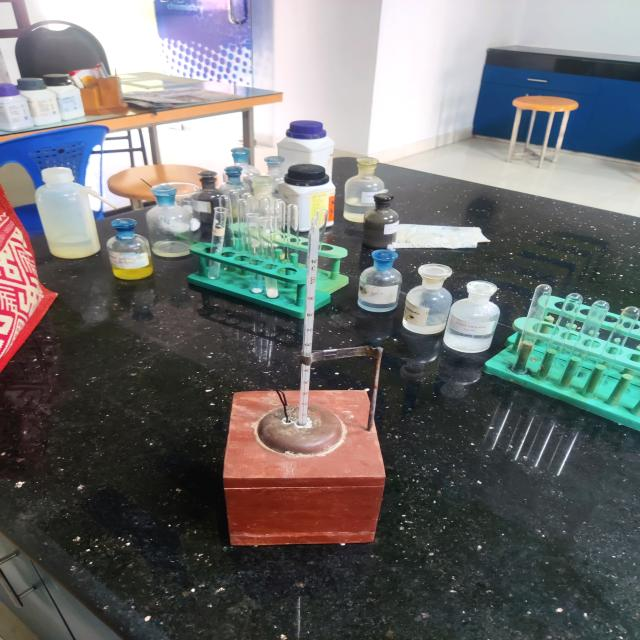Calorimeter: (195, 205, 397, 568)
